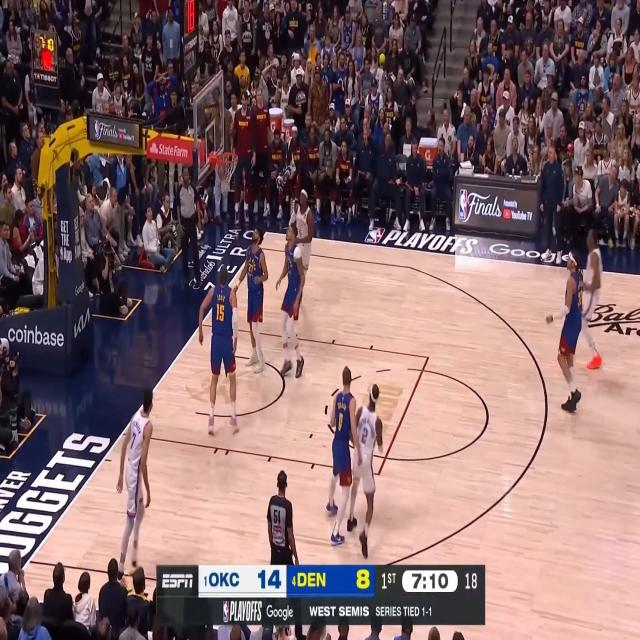ball: (216, 164, 228, 180)
number: (216, 301, 226, 325), (361, 426, 368, 446), (337, 412, 343, 434), (130, 432, 136, 450), (248, 263, 253, 273)
player: (115, 387, 154, 593), (198, 265, 240, 436), (325, 364, 362, 548), (545, 250, 585, 414), (347, 385, 384, 560), (233, 227, 269, 374), (275, 222, 307, 380), (580, 228, 604, 371), (290, 186, 314, 318)
referee: (175, 165, 203, 292), (267, 470, 299, 566)
rim: (217, 151, 239, 164)
